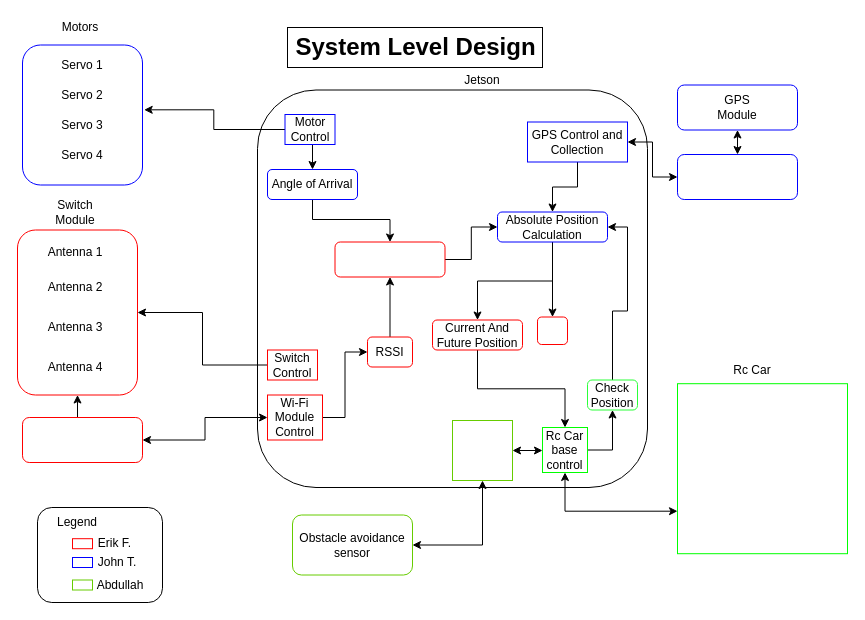
Some shapes in this 865 by 620 pixel diagram are drawn without their labels. Here are the shapes that lost their labels. From the top down, the centre of each, then its label:
At point (737, 177): "ESP32 Wi-FI Access Point".
At point (389, 259): "Relative Position Calculation (x,y)".
At point (552, 330): "GUI".
At point (82, 439): "Wi-Fi Module".
At point (482, 450): "obstacle avoidance".
At point (762, 468): "Motors PWM controller H-bridge".
